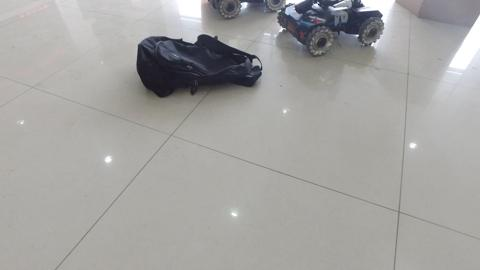bag: (136, 37, 259, 92)
chariot: (280, 1, 386, 52)
